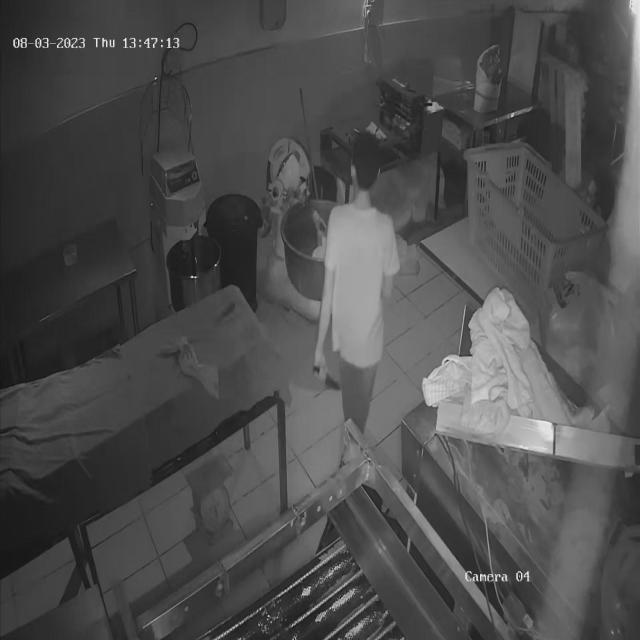Knife: (308, 361, 348, 407)
